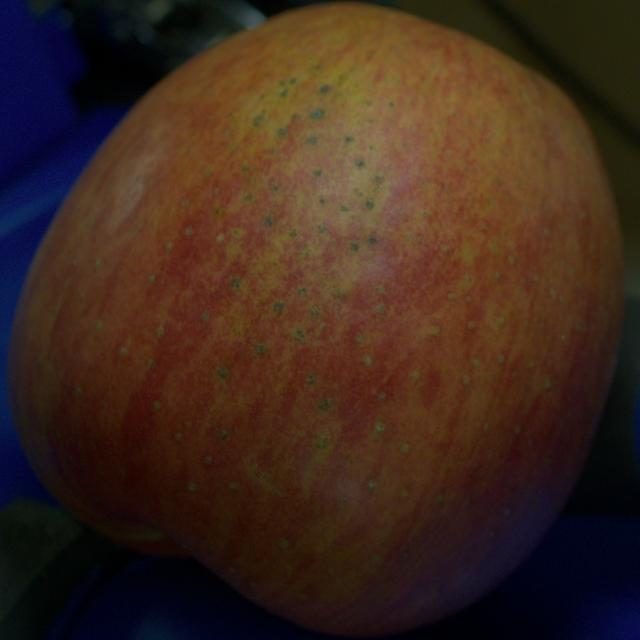apple: (8, 4, 624, 636)
pest: (318, 398, 332, 410), (311, 109, 324, 118), (219, 366, 228, 379), (274, 301, 284, 312), (296, 328, 305, 340), (256, 344, 266, 354), (232, 278, 241, 288), (351, 241, 359, 251), (366, 199, 374, 209), (264, 216, 272, 226), (319, 85, 330, 92), (368, 237, 378, 244), (298, 288, 306, 296), (355, 159, 363, 166), (319, 225, 326, 232)
